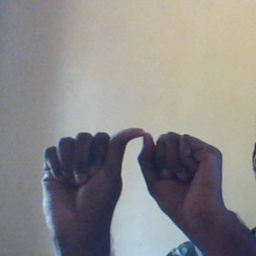A: (43, 125, 226, 231)
